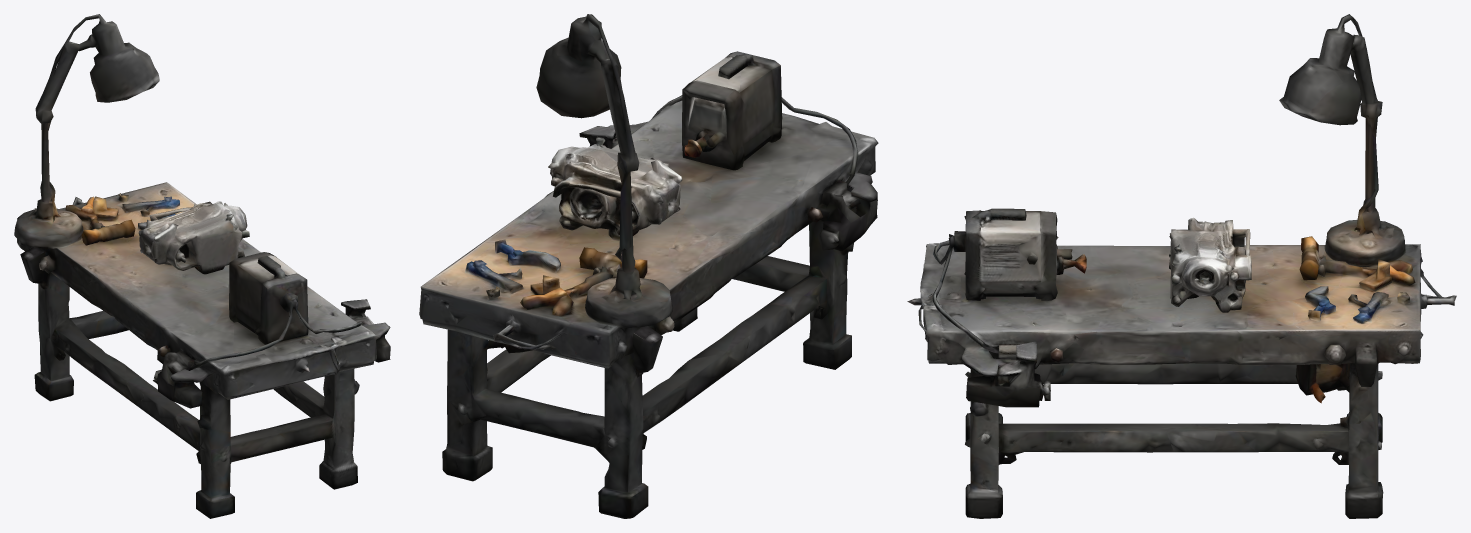
The model's file is gr_upbench.glb.
The picture shows the model from 3 angles, left to right: view 1: azimuth 30°, elevation 25°; view 2: azimuth 150°, elevation 25°; view 3: azimuth 270°, elevation 25°; orthographic projection. The views are drawn at different scales.
Parts seen in each view (by area): view 1: tripo_node_2a9871eb-9364-41f1-9ba6-675a2bb6d7cc; view 2: tripo_node_2a9871eb-9364-41f1-9ba6-675a2bb6d7cc; view 3: tripo_node_2a9871eb-9364-41f1-9ba6-675a2bb6d7cc.
Boxes of the visible parts, x1=… form: tripo_node_2a9871eb-9364-41f1-9ba6-675a2bb6d7cc: x1=14, y1=14, x2=390, y2=518; tripo_node_2a9871eb-9364-41f1-9ba6-675a2bb6d7cc: x1=419, y1=14, x2=878, y2=518; tripo_node_2a9871eb-9364-41f1-9ba6-675a2bb6d7cc: x1=907, y1=14, x2=1456, y2=518.
Bounding box in the file's own units: 0.5282 × 0.8769 × 0.9834.
1 material, 1 textured.
